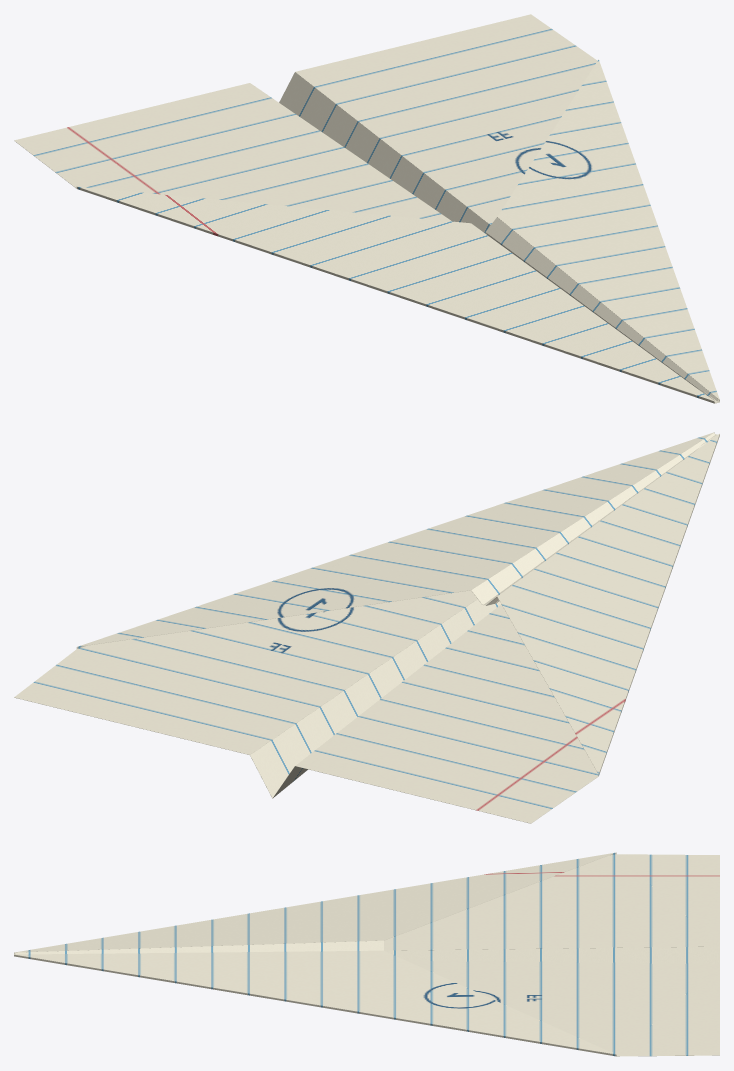
File: Avion_Cuaderno.fbx
The picture shows the model from 3 angles, top to bottom: view 1: azimuth 30°, elevation 25°; view 2: azimuth 150°, elevation 25°; view 3: azimuth 270°, elevation 25°; orthographic projection. The views are drawn at different scales.
Parts seen in each view (by area): view 1: Avion_Cuaderno; view 2: Avion_Cuaderno; view 3: Avion_Cuaderno.
Boxes of the visible parts, bbox=[...] form: Avion_Cuaderno: bbox=[14, 14, 719, 403]; Avion_Cuaderno: bbox=[14, 432, 719, 823]; Avion_Cuaderno: bbox=[14, 852, 719, 1056].
Bounding box in the file's own units: 20.14 × 1.86 × 29.7.
1 material, 1 textured.
